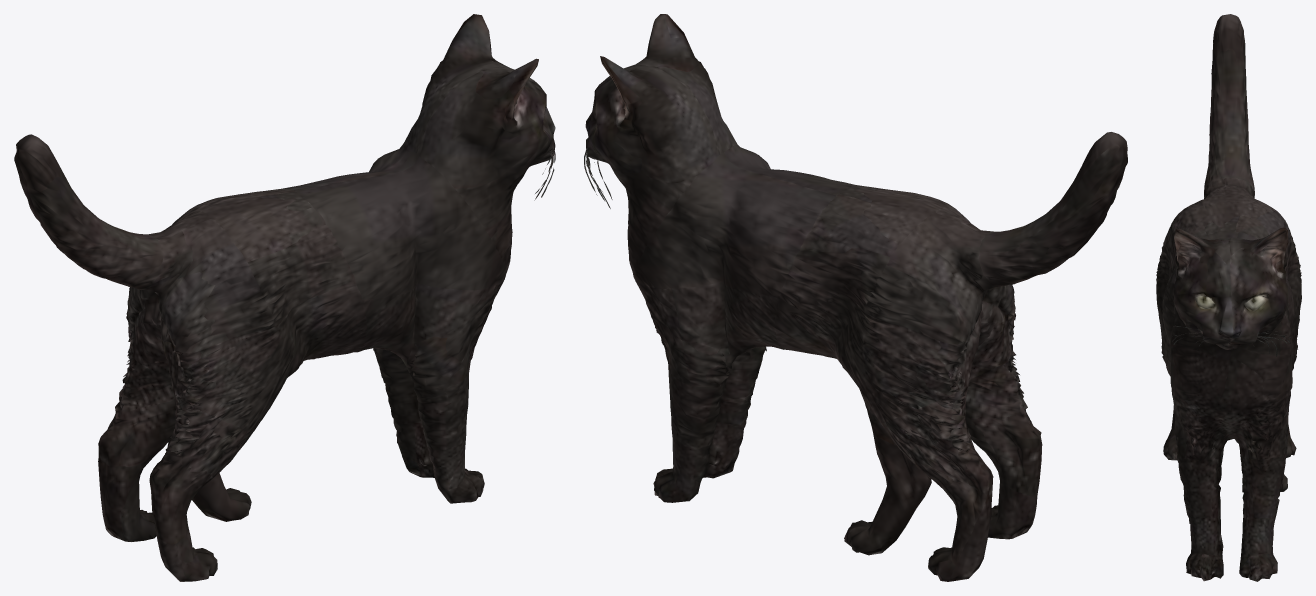
Rendered from RURUNEKO-lo.glb.
3 renders of one model, left to right at view 1: azimuth 30°, elevation 25°; view 2: azimuth 150°, elevation 25°; view 3: azimuth 270°, elevation 25°, orthographic. The views are drawn at different scales.
Parts seen in each view (by area): view 1: tripo_node_57156c07-c3c4-40f5-a333-b9a85d409466; view 2: tripo_node_57156c07-c3c4-40f5-a333-b9a85d409466; view 3: tripo_node_57156c07-c3c4-40f5-a333-b9a85d409466.
Boxes of the visible parts, bbox=[...] form: tripo_node_57156c07-c3c4-40f5-a333-b9a85d409466: bbox=[14, 14, 555, 581]; tripo_node_57156c07-c3c4-40f5-a333-b9a85d409466: bbox=[584, 14, 1127, 581]; tripo_node_57156c07-c3c4-40f5-a333-b9a85d409466: bbox=[1156, 14, 1301, 581].
Size of the model in its own units: 1.24 by 0.9984 by 0.3403.
1 material, 1 textured.
